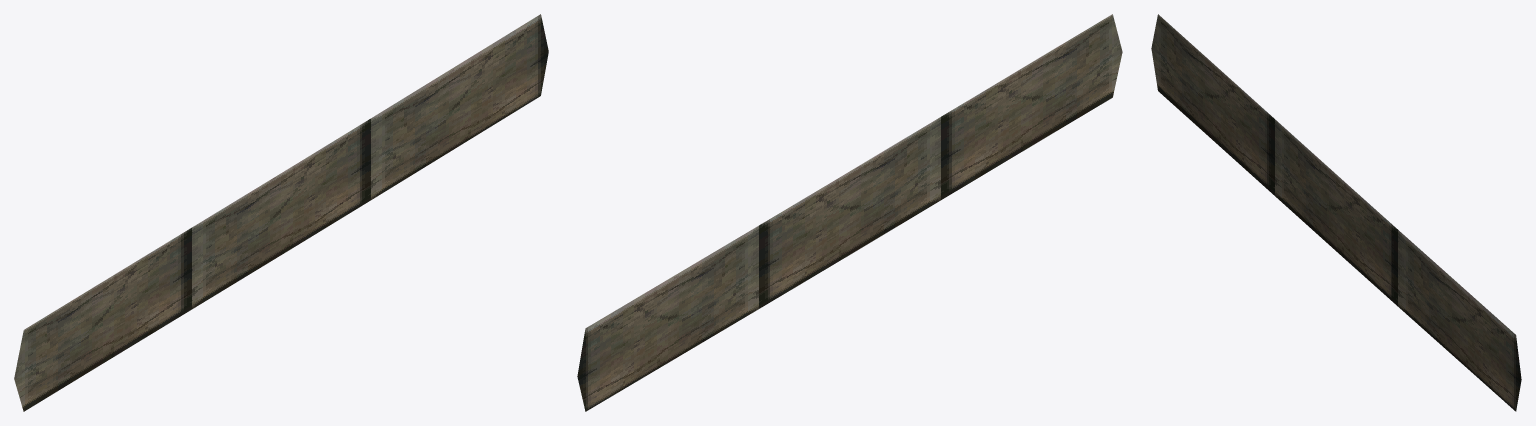
File: CH09_SMAUG_PLAYSURFACE_LAIR118.fbx
The picture shows the model from 3 angles, left to right: view 1: azimuth 30°, elevation 25°; view 2: azimuth 210°, elevation 25°; view 3: azimuth 270°, elevation 25°; orthographic projection. The views are drawn at different scales.
Visible parts, largest first — view 1: CH09_SMAUG_PLAYSURFACE_LAIR118; view 2: CH09_SMAUG_PLAYSURFACE_LAIR118; view 3: CH09_SMAUG_PLAYSURFACE_LAIR118.
Boxes of the visible parts, left/top/right/bottom form: CH09_SMAUG_PLAYSURFACE_LAIR118: left=14, top=14, right=548, bottom=411; CH09_SMAUG_PLAYSURFACE_LAIR118: left=577, top=14, right=1122, bottom=411; CH09_SMAUG_PLAYSURFACE_LAIR118: left=1151, top=14, right=1521, bottom=411.
Bounding box in the file's own units: 56858 × 6371 × 26514.
Materials: 1 (1 with a texture image).
